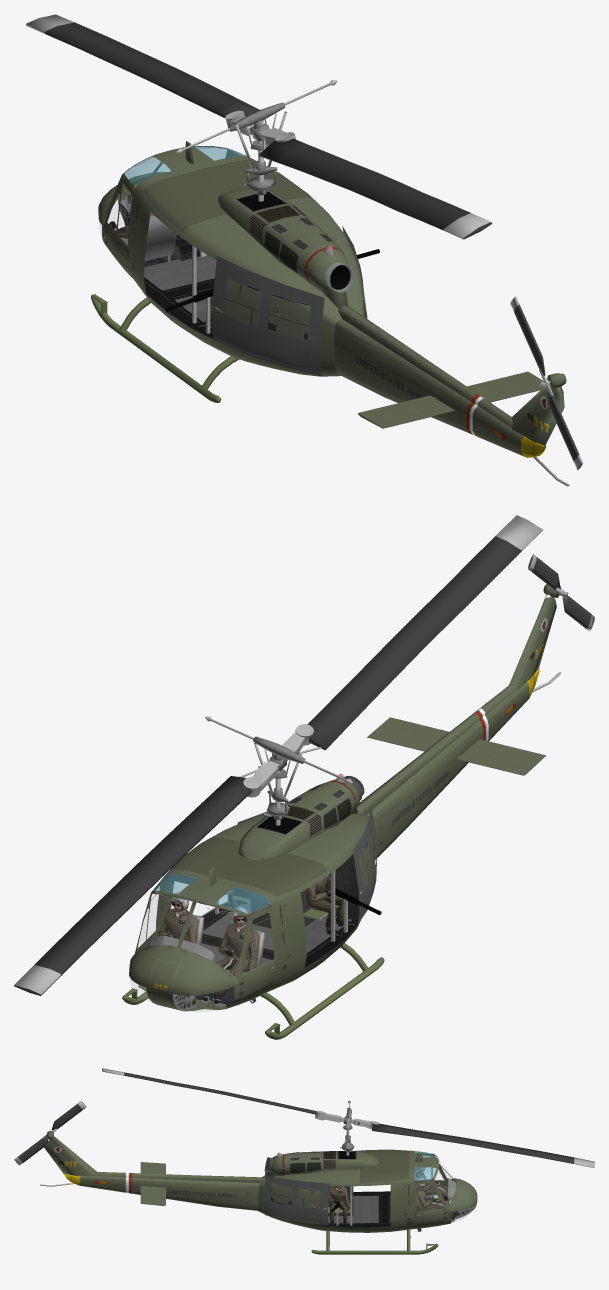
The model's file is u1h_flyt.glb.
3 renders of one model, top to bottom at view 1: azimuth 30°, elevation 25°; view 2: azimuth 150°, elevation 25°; view 3: azimuth 270°, elevation 25°, orthographic. The views are drawn at different scales.
Visible parts, largest first — view 1: fuse1_main, fuse1_rotorM_blade, fuse2_tailboom, fuse1_doorL, fuse1_nacelle, fuse2_tail, int1_flat, fuse2_tail_horz2, fuse0_cabin, fuse1_skids, int0_seats, fuse2_rotorT (+2 smaller); view 2: fuse1_rotorM_blade, fuse1_main, fuse0_cabin, fuse2_tailboom, fuse1_nacelle, int1_flat, fuse2_tail, fuse2_tail_horz2, fuse1_skids, fuse0_doors, int_pilotL, fuse2_rotorT (+5 smaller); view 3: fuse1_main, fuse2_tailboom, fuse1_rotorM_blade, fuse1_nacelle, fuse2_tail, fuse1_doorR, fuse0_cabin, int1_flat, fuse0_doors, fuse1_skids, fuse2_tail_horz2, fuse2_rotorT (+3 smaller).
Part boxes in pixels (x1,y1,x2,y2): fuse1_main: [128, 155, 365, 376]; fuse1_rotorM_blade: [26, 14, 492, 239]; fuse2_tailboom: [334, 319, 546, 457]; fuse1_doorL: [212, 256, 324, 375]; fuse1_nacelle: [218, 187, 349, 309]; fuse2_tail: [338, 306, 566, 445]; int1_flat: [144, 254, 222, 343]; fuse2_tail_horz2: [358, 371, 544, 428]; fuse0_cabin: [98, 146, 246, 279]; fuse1_skids: [91, 294, 239, 402]; int0_seats: [120, 163, 354, 292]; fuse2_rotorT: [510, 296, 582, 470]; fuse1_rotorM_blade: [14, 515, 542, 995]; fuse1_main: [157, 813, 375, 992]; fuse0_cabin: [129, 873, 274, 1011]; fuse2_tailboom: [366, 668, 539, 859]; fuse1_nacelle: [238, 779, 361, 860]; int1_flat: [167, 854, 359, 1006]; fuse2_tail: [356, 584, 561, 814]; fuse2_tail_horz2: [367, 717, 545, 775]; fuse1_skids: [122, 943, 384, 1039]; fuse0_doors: [136, 880, 276, 999]; int_pilotL: [201, 906, 259, 1003]; fuse2_rotorT: [528, 554, 594, 631]; fuse1_main: [257, 1149, 414, 1232]; fuse2_tailboom: [64, 1174, 259, 1210]; fuse1_rotorM_blade: [102, 1068, 594, 1167]; fuse1_nacelle: [265, 1151, 378, 1179]; fuse2_tail: [44, 1131, 265, 1182]; fuse1_doorR: [264, 1176, 329, 1224]; fuse0_cabin: [414, 1151, 477, 1228]; int1_flat: [322, 1186, 429, 1227]; fuse0_doors: [414, 1153, 448, 1223]; fuse1_skids: [311, 1229, 438, 1254]; fuse2_tail_horz2: [140, 1162, 165, 1205]; fuse2_rotorT: [14, 1101, 86, 1165].
Size of the model in its own units: 11.4 by 19.63 by 55.63.
21 materials, 11 textured.
